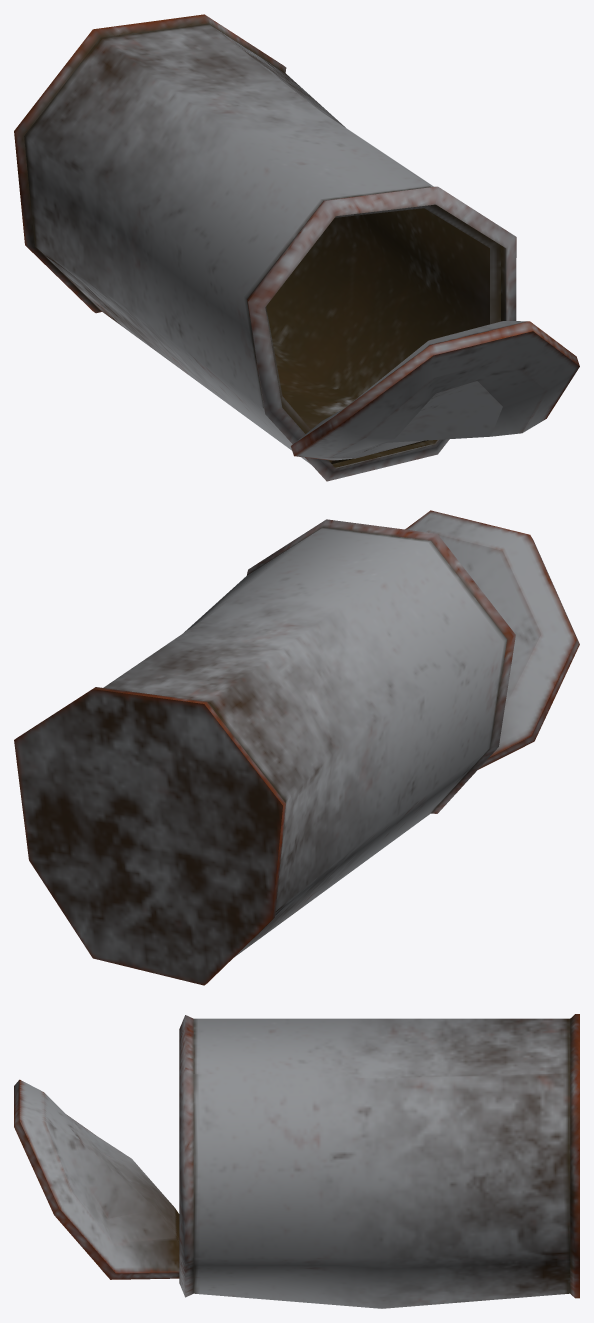
File: can2.fbx
The picture shows the model from 3 angles, top to bottom: view 1: azimuth 30°, elevation 25°; view 2: azimuth 150°, elevation 25°; view 3: azimuth 270°, elevation 25°; orthographic projection. The views are drawn at different scales.
Parts seen in each view (by area): view 1: Can_01_GEO; view 2: Can_01_GEO; view 3: Can_01_GEO.
Part boxes in pixels (box(x1,y1,x2,y2)): Can_01_GEO: box(14, 14, 579, 481); Can_01_GEO: box(14, 510, 579, 985); Can_01_GEO: box(14, 1014, 579, 1308).
Size of the model in its own units: 7.72 by 8.09 by 16.63.
1 material, 1 textured.
